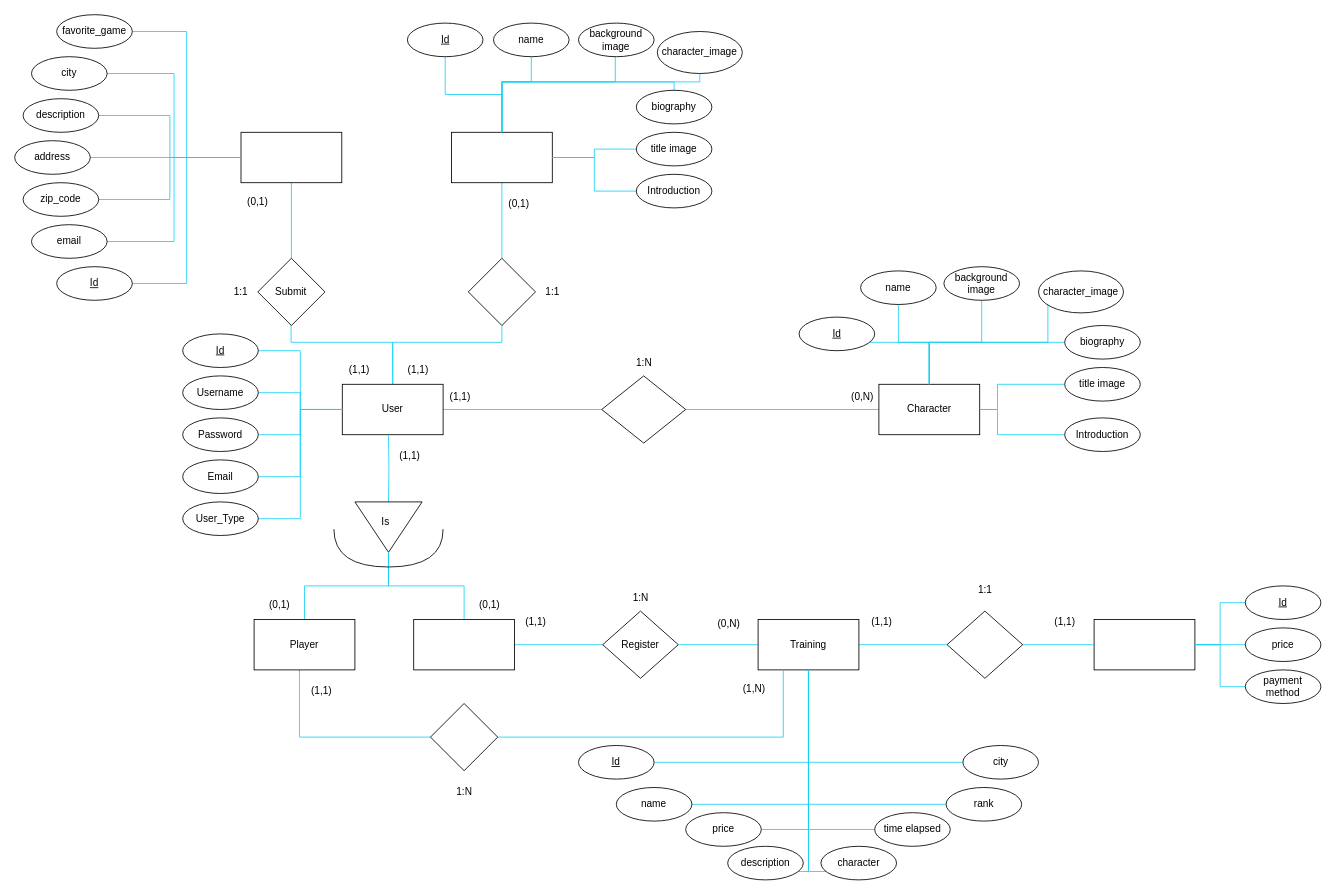
Image size: 1336x895. Some labels were removed from this diagram. The shapes that lost their labels are listed below. From the top down, each one's centre as x and y in pixels, then its label:
the point at 291,157: Comments
the point at 501,157: Character Modification Proposal
the point at 501,291: Send
the point at 643,409: Create
the point at 463,644: Coach
the point at 984,644: Have
the point at 1144,644: Transaction
the point at 464,737: Use
